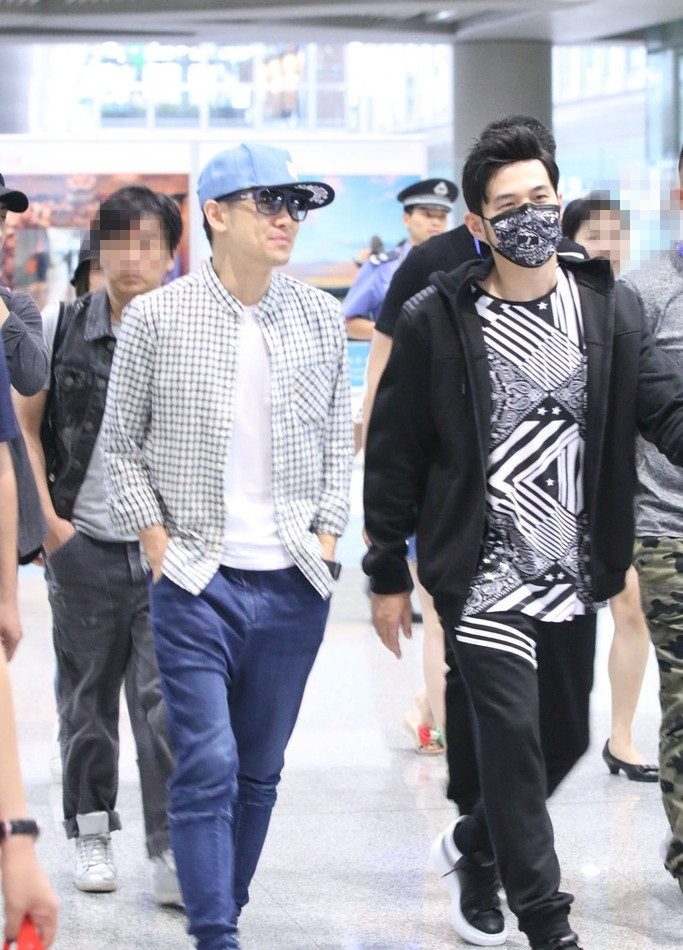Mask: (482, 178, 571, 267)
